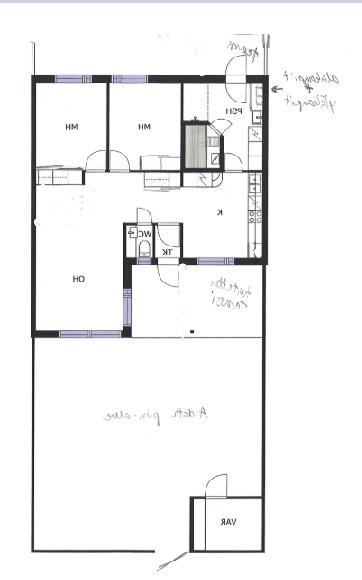bathroom: (125, 221, 156, 260)
door: (221, 77, 250, 106), (157, 257, 183, 289), (223, 53, 248, 85), (155, 223, 182, 248), (204, 474, 229, 500), (108, 148, 132, 175), (84, 148, 108, 174), (209, 115, 233, 136), (223, 152, 243, 176), (134, 206, 152, 225)
perimeter: (29, 73, 270, 340)
window: (53, 327, 127, 340), (49, 70, 97, 90), (120, 283, 135, 330), (189, 255, 239, 269), (109, 72, 154, 86), (133, 256, 157, 265)
